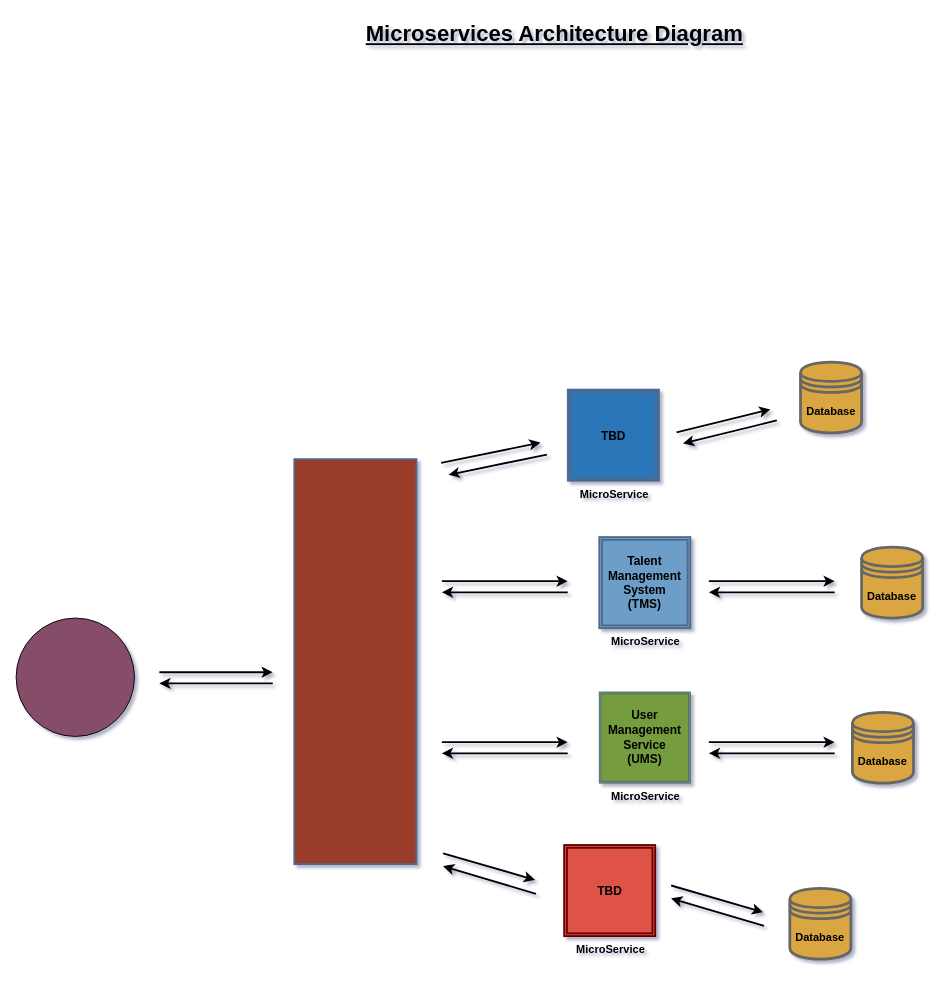
The diagram is 946 pixels wide and 984 high, and some of its shapes have lost their labels. Each missing label, with the centre of its shape:
API Gateway: (355,661)
Client: (75,676)
